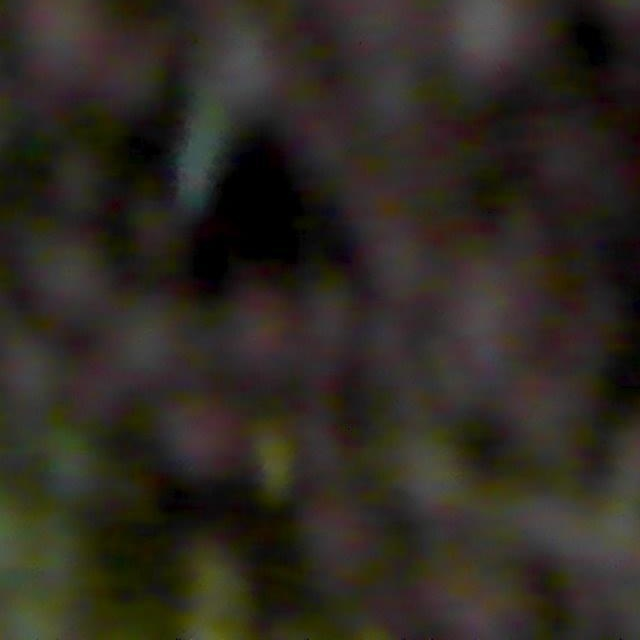SeaGrape: (25, 0, 158, 121), (431, 0, 559, 90), (90, 295, 188, 395), (21, 232, 110, 339), (204, 287, 297, 387), (165, 399, 254, 495), (395, 435, 474, 518), (295, 284, 362, 373), (0, 319, 65, 408)
